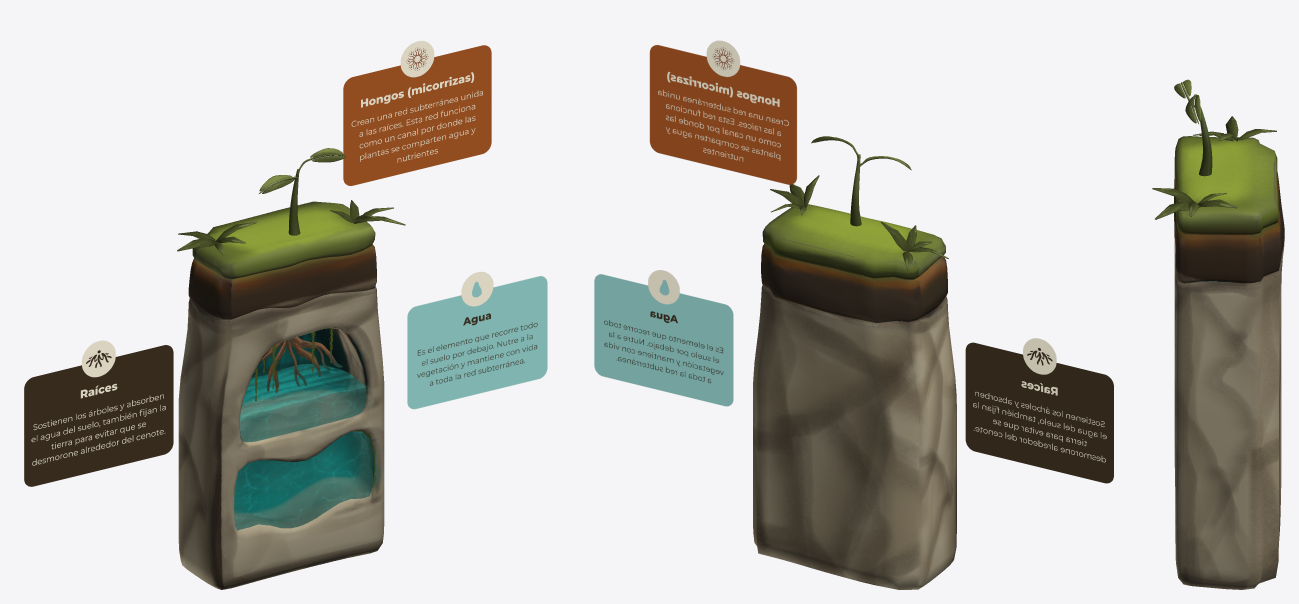
The model's file is hongos-raices-y-agua-2.glb.
The picture shows the model from 3 angles, left to right: view 1: azimuth 30°, elevation 25°; view 2: azimuth 150°, elevation 25°; view 3: azimuth 270°, elevation 25°; orthographic projection. The views are drawn at different scales.
Visible parts, largest first — view 1: Cube.029, 1533.003, Empty.004; view 2: Cube.029, 1533.003; view 3: Cube.029, Plane.107, Plane.106, Plane.109.
Part boxes in pixels (x1,y1,x2,y2): Cube.029: (178, 148, 384, 589); 1533.003: (24, 41, 547, 486); Empty.004: (260, 336, 342, 393); Cube.029: (753, 136, 956, 589); 1533.003: (594, 40, 1113, 483); Cube.029: (1174, 79, 1284, 589); Plane.107: (1155, 201, 1190, 219); Plane.106: (1152, 188, 1194, 202); Plane.109: (1198, 199, 1237, 208).
Bounding box in the file's own units: 1.09 × 0.9583 × 0.2048.
7 materials, 7 textured.
